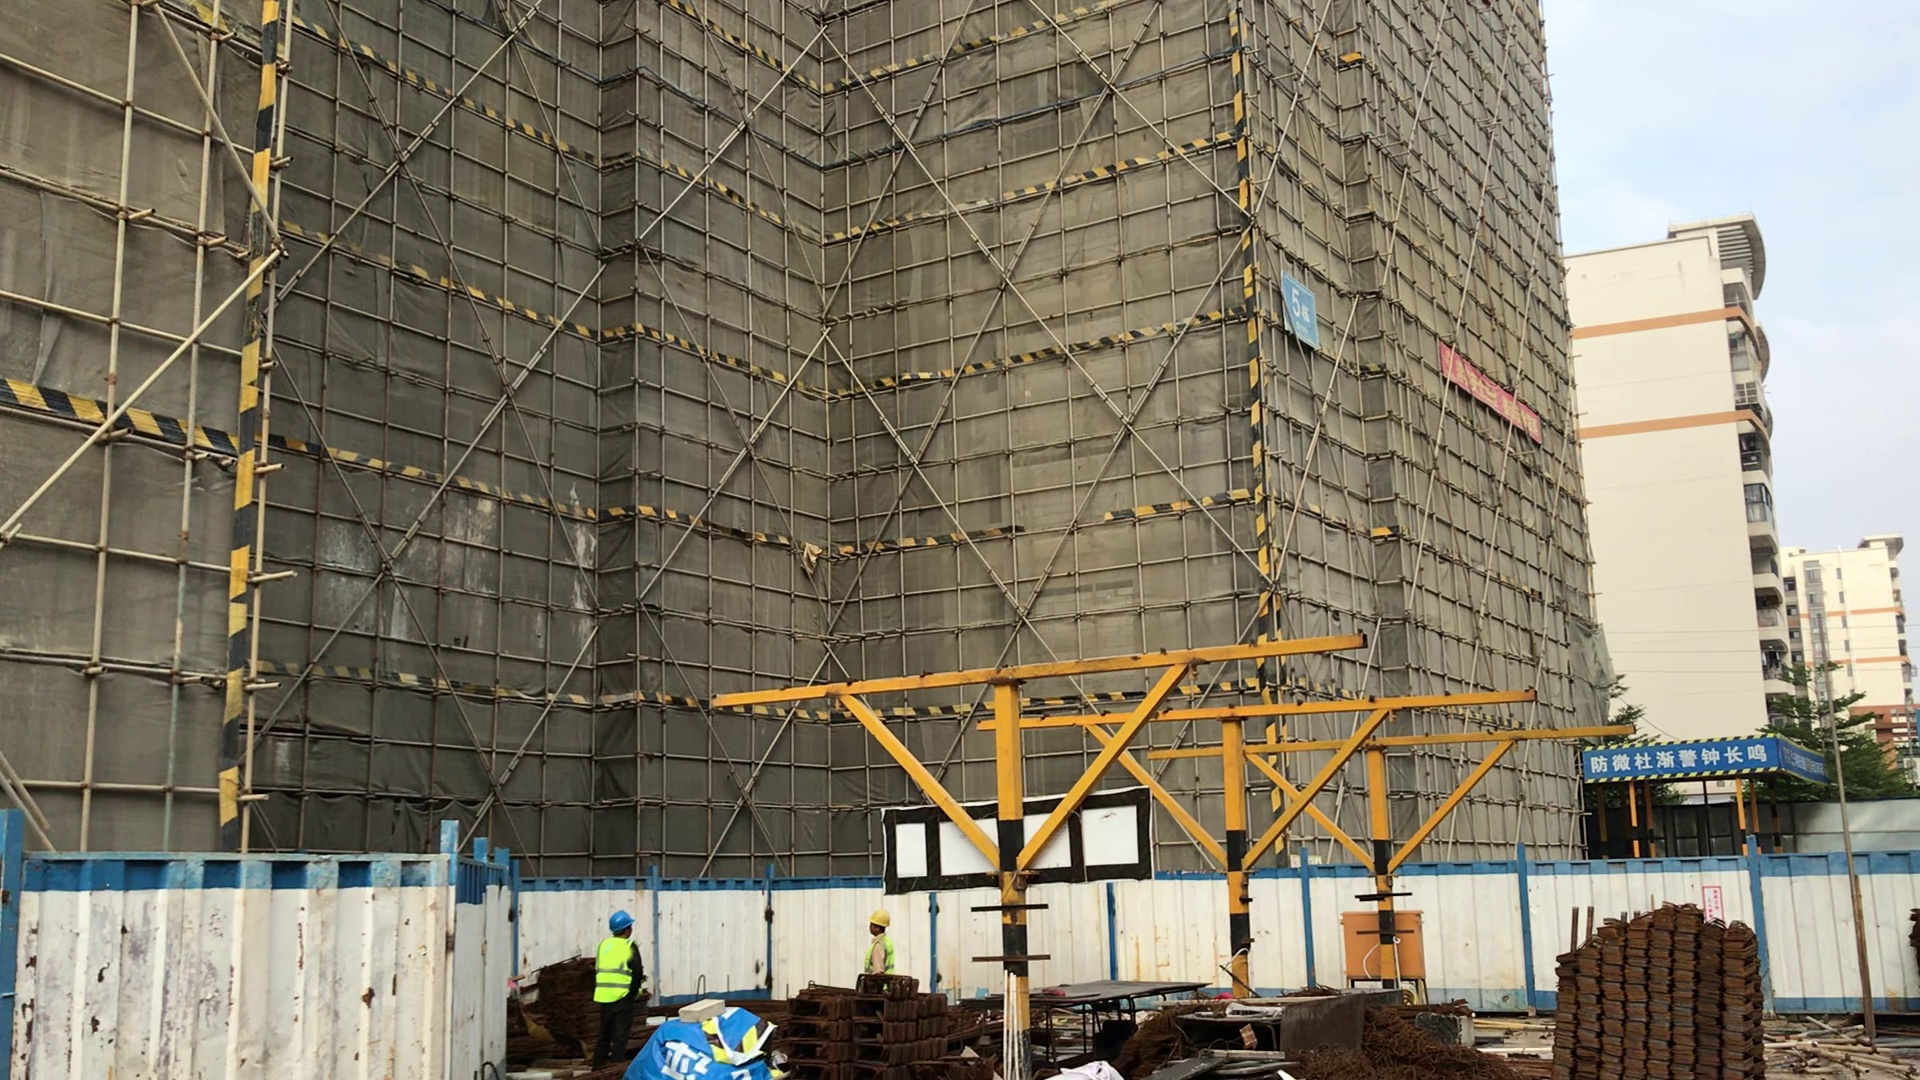ebox: (1339, 906, 1377, 994), (1397, 906, 1434, 995)
helmet: (608, 910, 635, 932), (872, 911, 891, 928)
person: (588, 909, 646, 1070), (863, 910, 896, 974)
slogan: (1434, 338, 1541, 450), (1587, 739, 1832, 779), (1276, 274, 1317, 339)
vest: (591, 939, 638, 1006), (864, 938, 894, 974)
